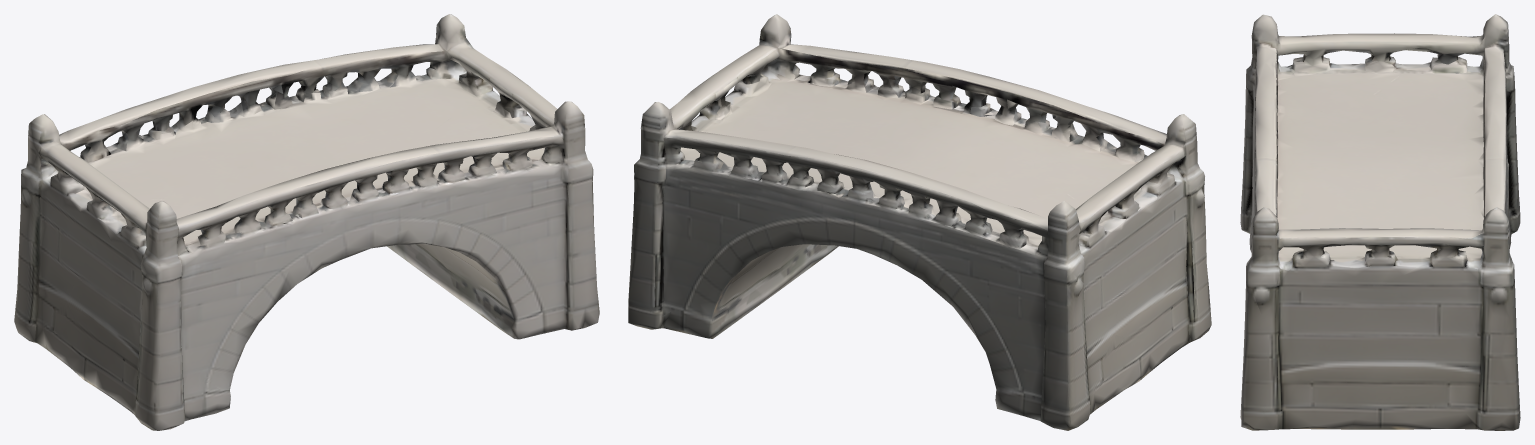
The model's file is bridge.glb.
3 views of the same model, side by side, from view 1: azimuth 30°, elevation 25°; view 2: azimuth 150°, elevation 25°; view 3: azimuth 270°, elevation 25° (orthographic). The views are drawn at different scales.
Parts seen in each view (by area): view 1: input; view 2: input; view 3: input.
Part boxes in pixels (left/top/right/bottom): input: left=14, top=14, right=599, bottom=430; input: left=628, top=14, right=1211, bottom=430; input: left=1240, top=14, right=1520, bottom=430.
Size of the model in its own units: 0.9981 by 0.4684 by 0.5532.
1 material, 1 textured.
